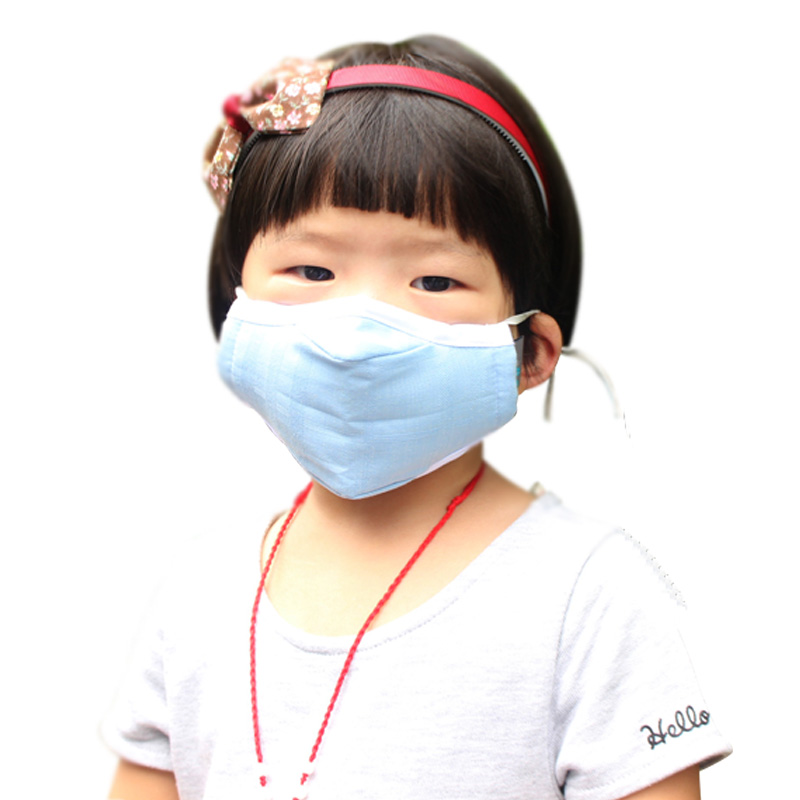face_mask: (229, 140, 516, 501)
